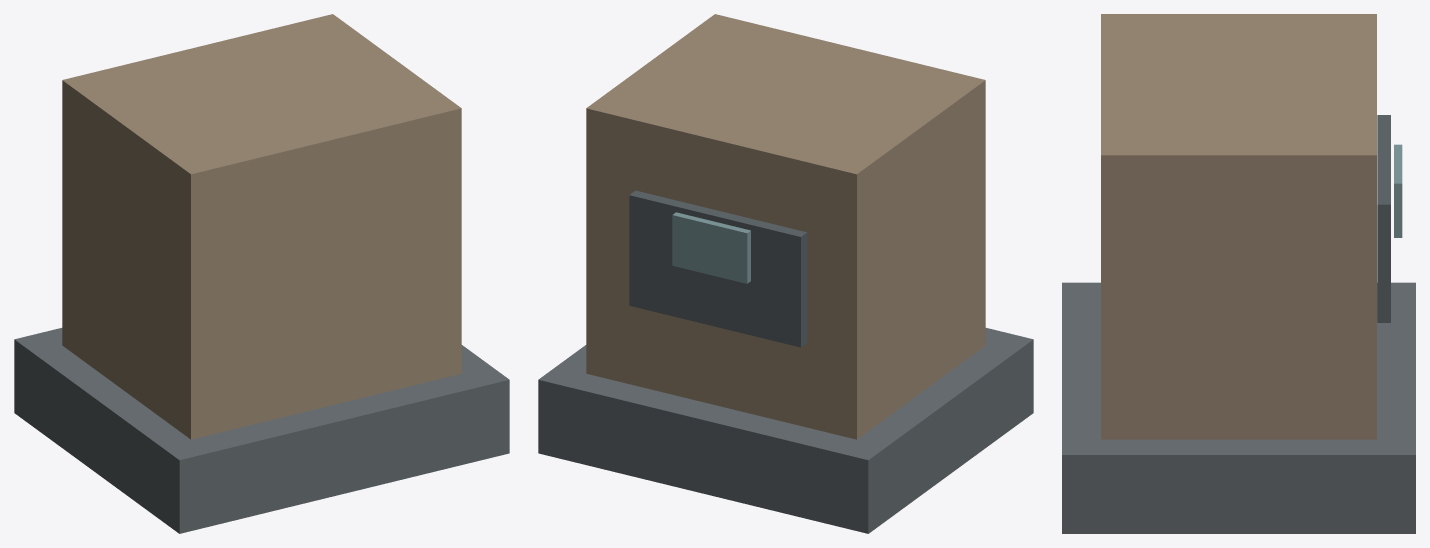
Rendered from iz3_production_kiln_02.glb.
3 renders of one model, left to right at view 1: azimuth 30°, elevation 25°; view 2: azimuth 150°, elevation 25°; view 3: azimuth 270°, elevation 25°, orthographic. The views are drawn at different scales.
Visible parts, largest first — view 1: cabinet, base; view 2: cabinet, base, panel, display; view 3: cabinet, base, panel, display.
Part boxes in pixels (<box>): cabinet: <box>62,14,461,439</box>; base: <box>14,328,509,533</box>; cabinet: <box>586,14,985,439</box>; base: <box>538,328,1033,533</box>; panel: <box>629,190,807,347</box>; display: <box>672,212,750,283</box>; cabinet: <box>1101,14,1376,439</box>; base: <box>1062,282,1415,533</box>; panel: <box>1377,115,1390,322</box>; display: <box>1394,144,1402,237</box>.
Size of the model in its own units: 1.5 by 1.47 by 1.3.
